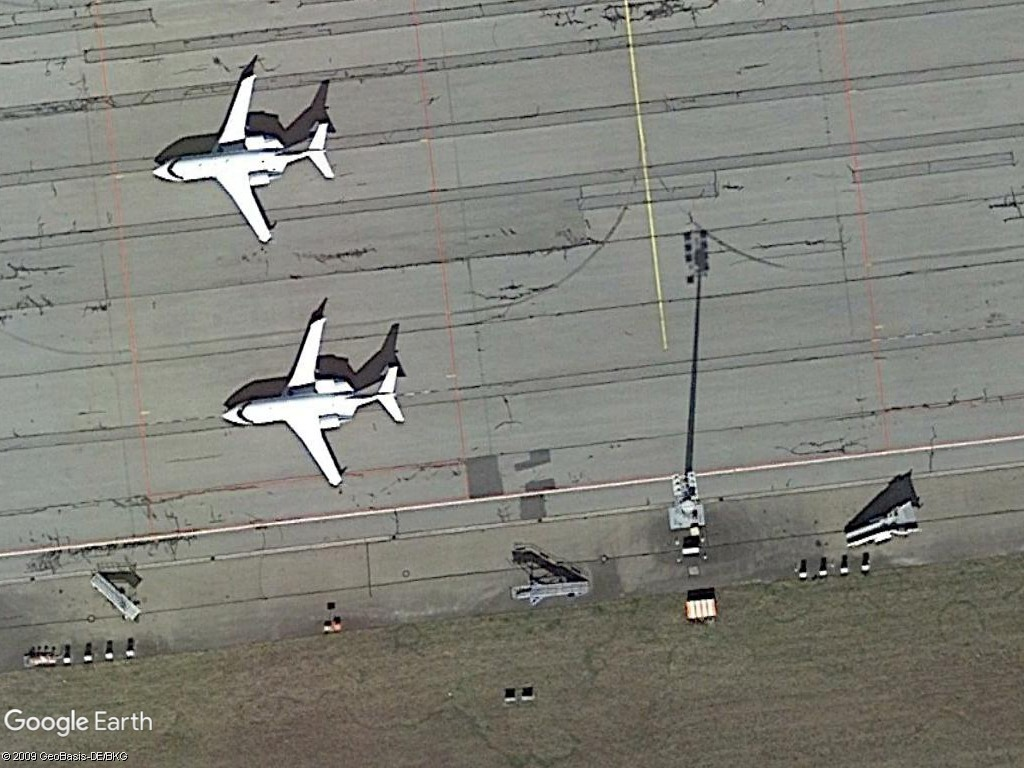chartered: (145, 69, 342, 247), (214, 312, 409, 490)
stairtruck: (840, 496, 922, 550)
